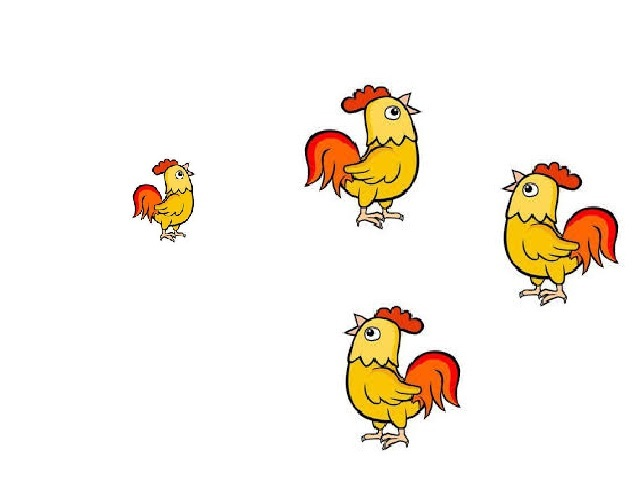crown: (537, 161, 581, 187), (382, 303, 418, 333), (339, 86, 390, 107), (150, 157, 177, 173)
eyes: (363, 327, 383, 345), (520, 183, 539, 200), (383, 105, 402, 119), (177, 168, 183, 180)
feet: (519, 283, 570, 305), (355, 209, 409, 227), (362, 431, 413, 450), (158, 229, 188, 244)
tail: (295, 128, 360, 196), (563, 206, 617, 273), (405, 353, 463, 414), (132, 184, 160, 223)
